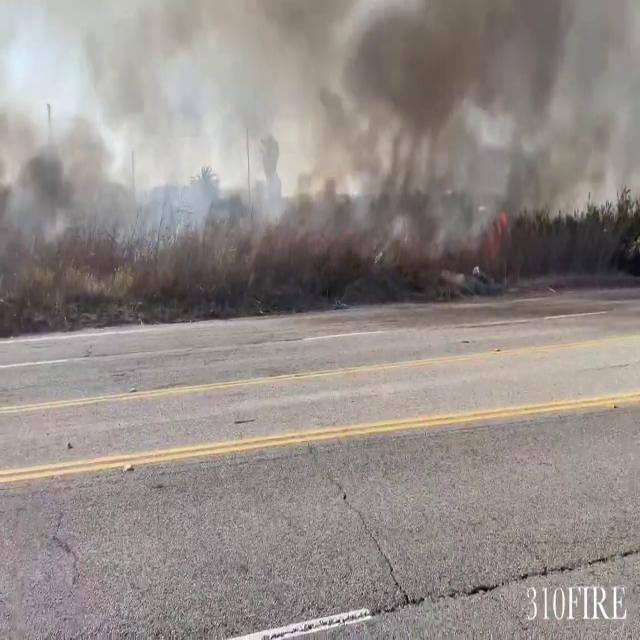Smoke: (1, 2, 619, 285)
